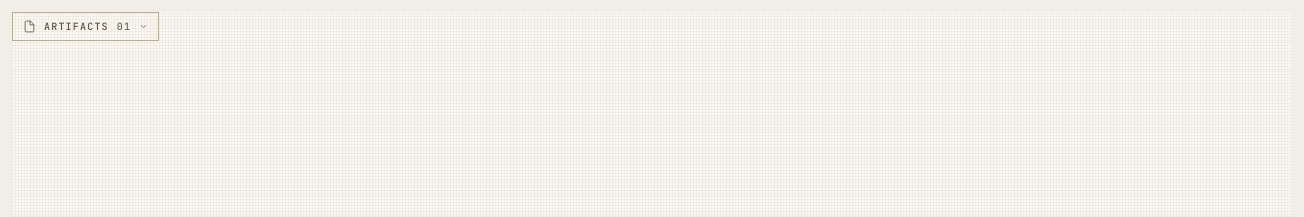
Test case: ArtifactsMenu › opens with ready/pending entries listed by basename
Click the button titled "Artifacts": (86, 26) [12, 12, 159, 41]
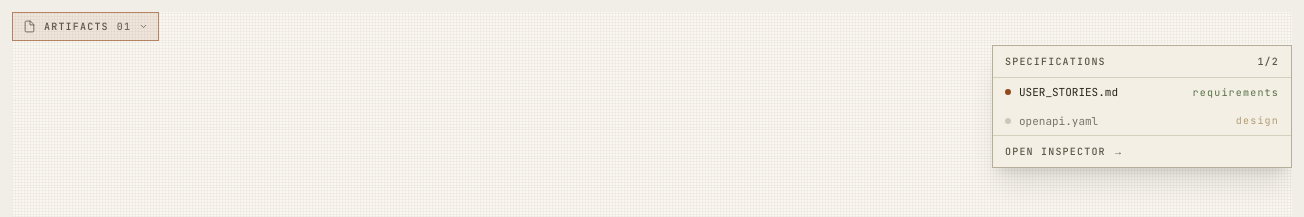
Check: the text "SPECIFICATIONS" is shown, box [1005, 54, 1106, 69]
Check: the text "USER_STORIES.md" is shown, box [1019, 84, 1118, 100]
Check: the text "openapi.yaml" is shown, box [1019, 112, 1098, 129]
